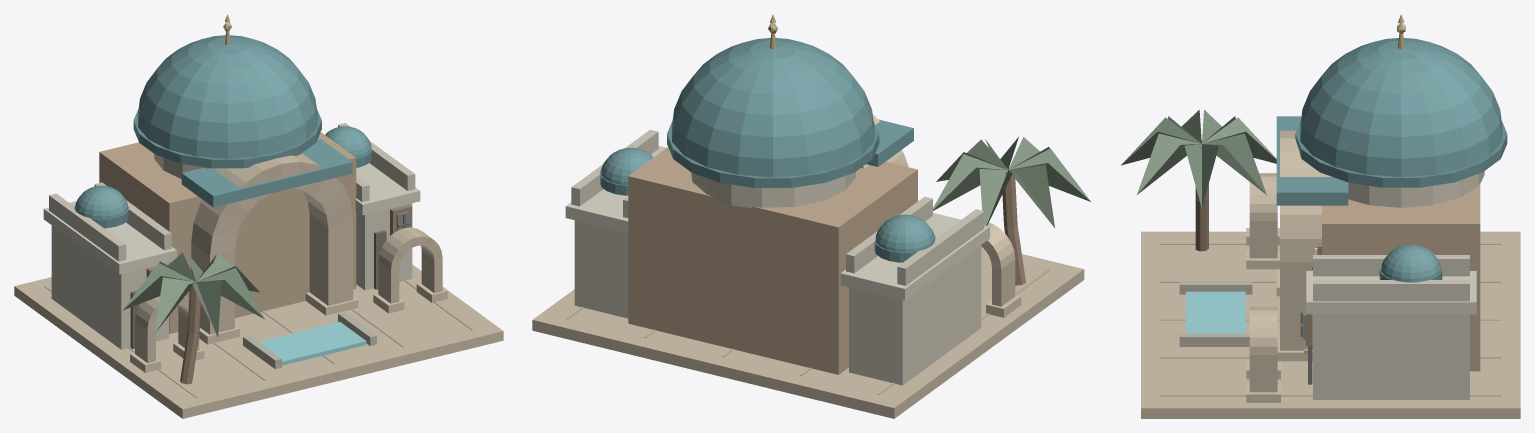
3 renders of one model, left to right at view 1: azimuth 30°, elevation 25°; view 2: azimuth 150°, elevation 25°; view 3: azimuth 270°, elevation 25°, orthographic. The views are drawn at different scales.
Visible parts, largest first — view 1: S26; view 2: S26; view 3: S26.
Part boxes in pixels (left/top/right/bottom): S26: left=14, top=14, right=503, bottom=418; S26: left=532, top=14, right=1090, bottom=418; S26: left=1121, top=14, right=1520, bottom=418.
Bounding box in the file's own units: 4.06 × 3.23 × 3.69.
